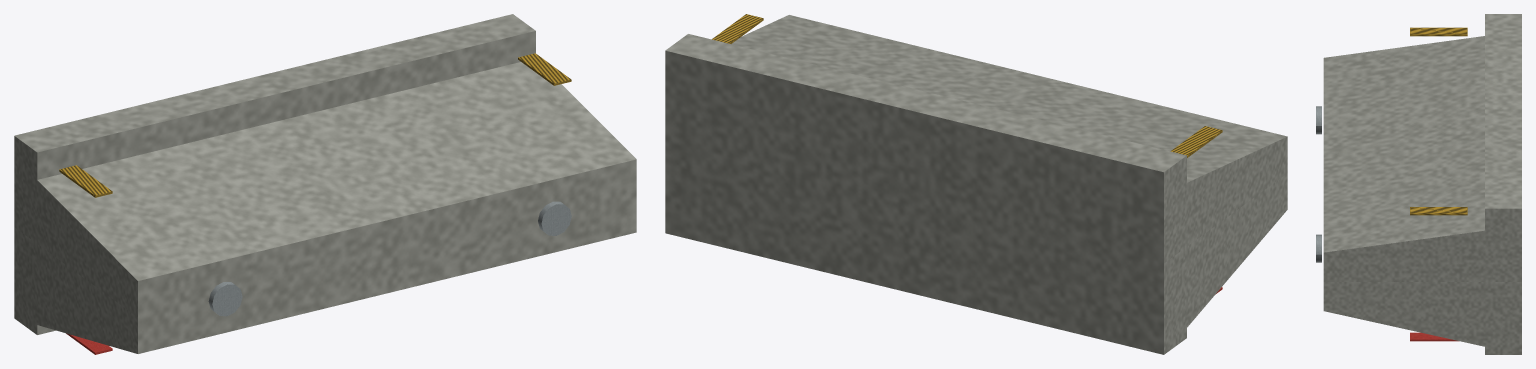
Rendered from Jersey_Barrier_2m.glb.
3 views of the same model, side by side, from view 1: azimuth 30°, elevation 25°; view 2: azimuth 150°, elevation 25°; view 3: azimuth 270°, elevation 25° (orthographic). The views are drawn at different scales.
Visible parts, largest first — view 1: Jersey_Barrier_2m__CAST_CONCRETE_PROFILE, Jersey_Barrier_2m__LIFT_ANCHOR_1.66, Jersey_Barrier_2m__LIFT_ANCHOR_0.34, Jersey_Barrier_2m__REFLECTOR_REAR_0.08, Jersey_Barrier_2m__REFLECTOR_REAR_1.92; view 2: Jersey_Barrier_2m__CAST_CONCRETE_PROFILE, Jersey_Barrier_2m__REFLECTOR_REAR_0.08, Jersey_Barrier_2m__REFLECTOR_REAR_1.92; view 3: Jersey_Barrier_2m__CAST_CONCRETE_PROFILE, Jersey_Barrier_2m__REFLECTOR_REAR_0.08, Jersey_Barrier_2m__REFLECTOR_REAR_1.92, Jersey_Barrier_2m__REFLECTOR_FRONT_1.92, Jersey_Barrier_2m__LIFT_ANCHOR_0.34, Jersey_Barrier_2m__LIFT_ANCHOR_1.66.
Part boxes in pixels (<box>): Jersey_Barrier_2m__CAST_CONCRETE_PROFILE: <box>14,14,636,353</box>; Jersey_Barrier_2m__LIFT_ANCHOR_1.66: <box>538,201,571,235</box>; Jersey_Barrier_2m__LIFT_ANCHOR_0.34: <box>208,282,242,316</box>; Jersey_Barrier_2m__REFLECTOR_REAR_0.08: <box>59,165,112,197</box>; Jersey_Barrier_2m__REFLECTOR_REAR_1.92: <box>518,53,571,85</box>; Jersey_Barrier_2m__CAST_CONCRETE_PROFILE: <box>665,15,1287,354</box>; Jersey_Barrier_2m__REFLECTOR_REAR_0.08: <box>1170,126,1222,157</box>; Jersey_Barrier_2m__REFLECTOR_REAR_1.92: <box>712,14,763,43</box>; Jersey_Barrier_2m__CAST_CONCRETE_PROFILE: <box>1323,14,1521,354</box>; Jersey_Barrier_2m__REFLECTOR_REAR_0.08: <box>1410,27,1467,36</box>; Jersey_Barrier_2m__REFLECTOR_REAR_1.92: <box>1410,207,1467,215</box>; Jersey_Barrier_2m__REFLECTOR_FRONT_1.92: <box>1410,332,1458,341</box>; Jersey_Barrier_2m__LIFT_ANCHOR_0.34: <box>1316,106,1321,134</box>; Jersey_Barrier_2m__LIFT_ANCHOR_1.66: <box>1316,234,1321,262</box>.
Size of the model in its own units: 2 by 0.7 by 0.8925.
Materials: 4 (4 with a texture image).
